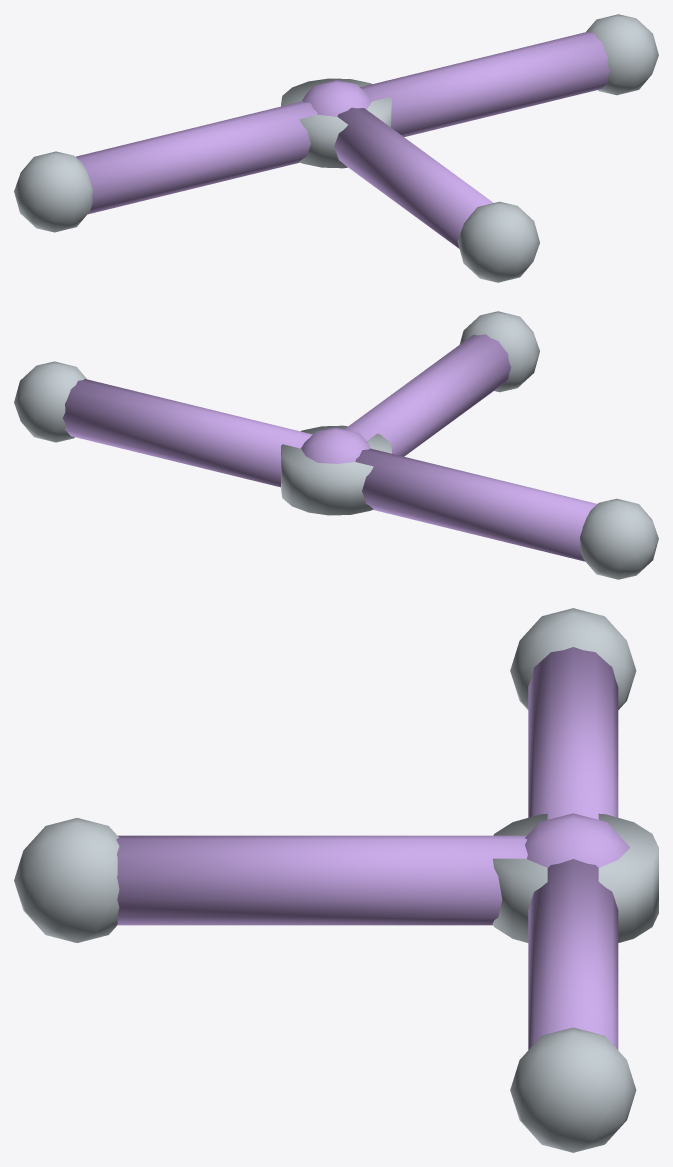
The model's file is conduit_splitter_standard.glb.
3 renders of one model, top to bottom at view 1: azimuth 30°, elevation 25°; view 2: azimuth 150°, elevation 25°; view 3: azimuth 270°, elevation 25°, orthographic. The views are drawn at different scales.
Visible parts, largest first — view 1: Conduit_purple, Coupler_steel, JunctionCap_steel, Junction_purple; view 2: Conduit_purple, Coupler_steel, JunctionCap_steel, Junction_purple; view 3: Conduit_purple, Coupler_steel, JunctionCap_steel, Junction_purple.
Boxes of the visible parts, left/top/right/bottom form: Conduit_purple: left=76, top=31, right=609, bottom=248; Coupler_steel: left=14, top=14, right=658, bottom=282; JunctionCap_steel: left=281, top=78, right=391, bottom=168; Junction_purple: left=302, top=80, right=371, bottom=116; Conduit_purple: left=62, top=334, right=596, bottom=561; Coupler_steel: left=14, top=311, right=658, bottom=579; JunctionCap_steel: left=281, top=425, right=391, bottom=515; Junction_purple: left=301, top=427, right=370, bottom=463; Conduit_purple: left=116, top=647, right=618, bottom=1049; Coupler_steel: left=14, top=608, right=636, bottom=1152; JunctionCap_steel: left=492, top=813, right=658, bottom=942; Junction_purple: left=525, top=813, right=629, bottom=867.
Bounding box in the file's own units: 2.48 × 0.3 × 1.43.
